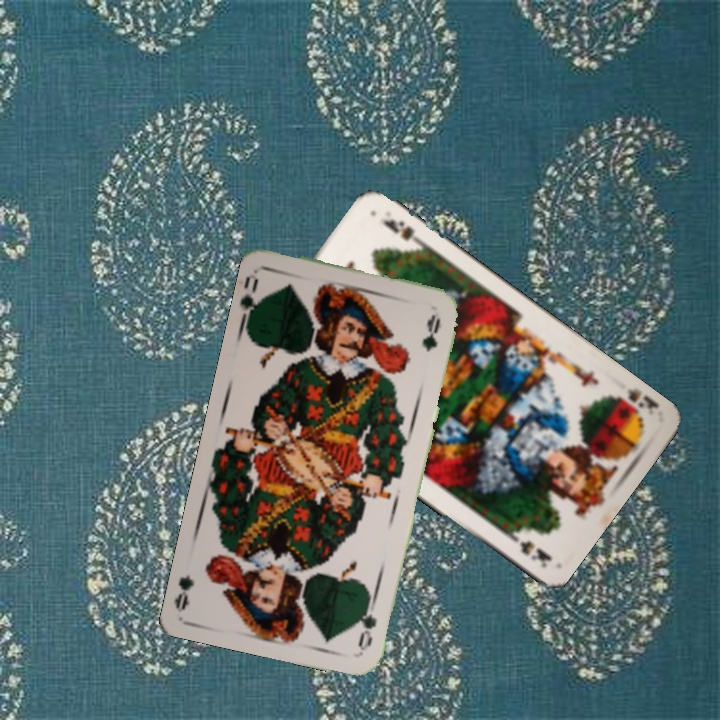GO: (236, 274, 268, 329), (354, 593, 380, 653)
SK: (605, 384, 661, 422)
